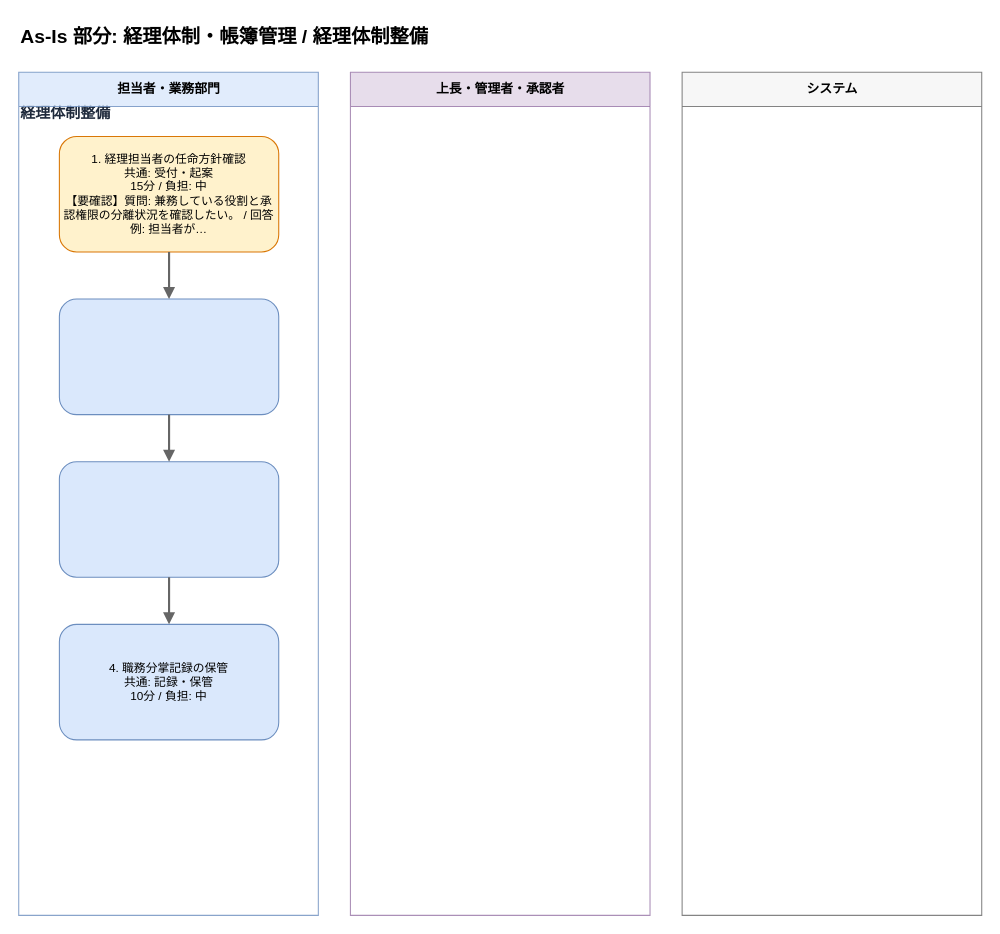
The diagram is 1000 pixels wide and 934 high, and some of its shapes have lost their labels. Here are the shapes that lost their labels. From the top down, the centre of each, then its label:
At point 168,356: "2. 職務分掌・牽制関係の確認 共通: 内容確認 20分 / 負担: 中".
At point 168,519: "3. 担当者任命の承認・通知 共通: 承認・決裁 15分 / 負担: 中".
